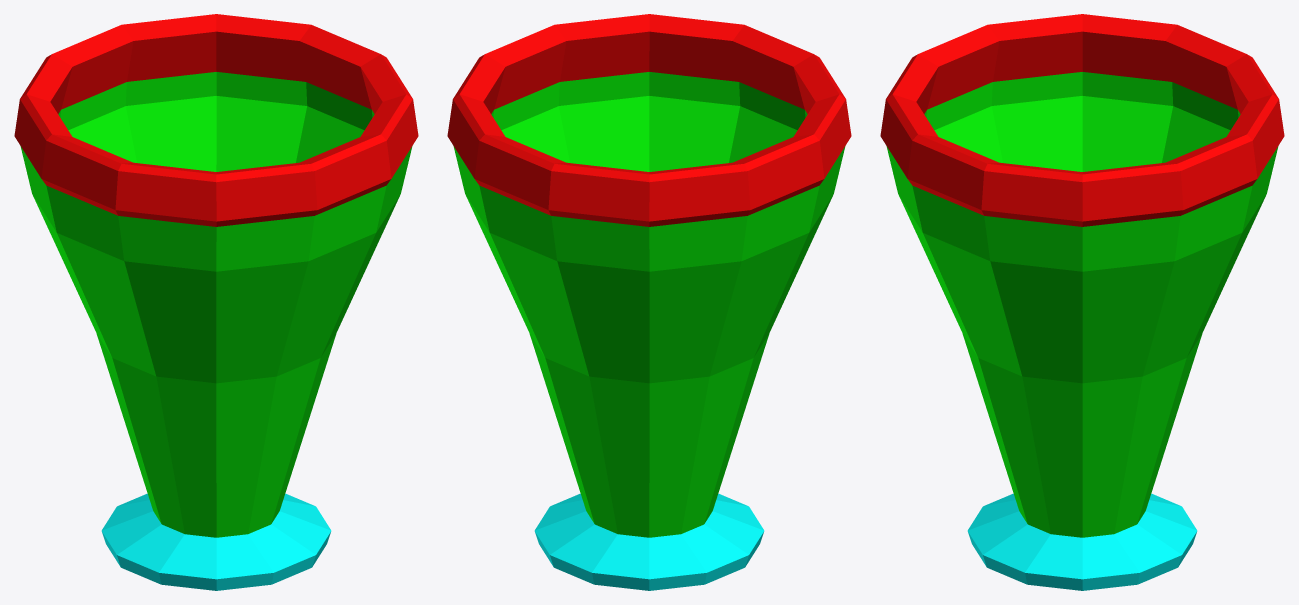
Rendered from POT_2.fbx.
3 views of the same model, side by side, from view 1: azimuth 30°, elevation 25°; view 2: azimuth 150°, elevation 25°; view 3: azimuth 270°, elevation 25° (orthographic).
Parts seen in each view (by area): view 1: POTERIE_2; view 2: POTERIE_2; view 3: POTERIE_2.
Part boxes in pixels (x1=…): POTERIE_2: x1=14, y1=14, x2=418, y2=590; POTERIE_2: x1=447, y1=14, x2=851, y2=590; POTERIE_2: x1=880, y1=14, x2=1284, y2=590.
Size of the model in its own units: 52.42 by 64.42 by 52.42.
